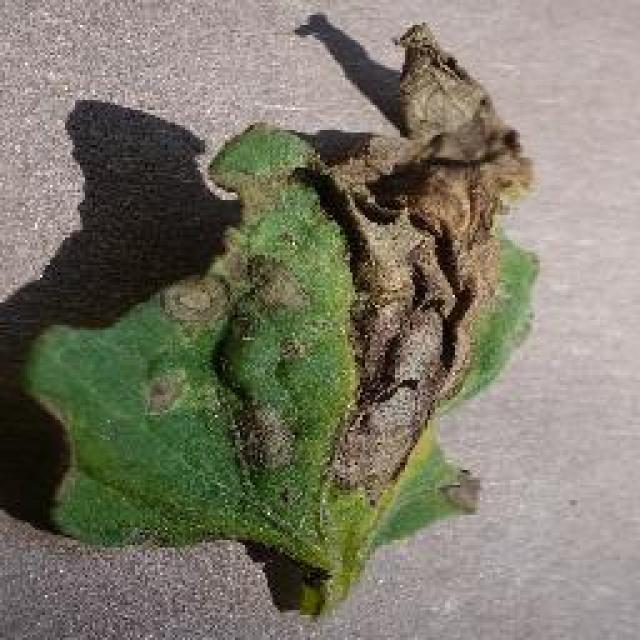Tomato Early blight leaf: (19, 24, 544, 614)
